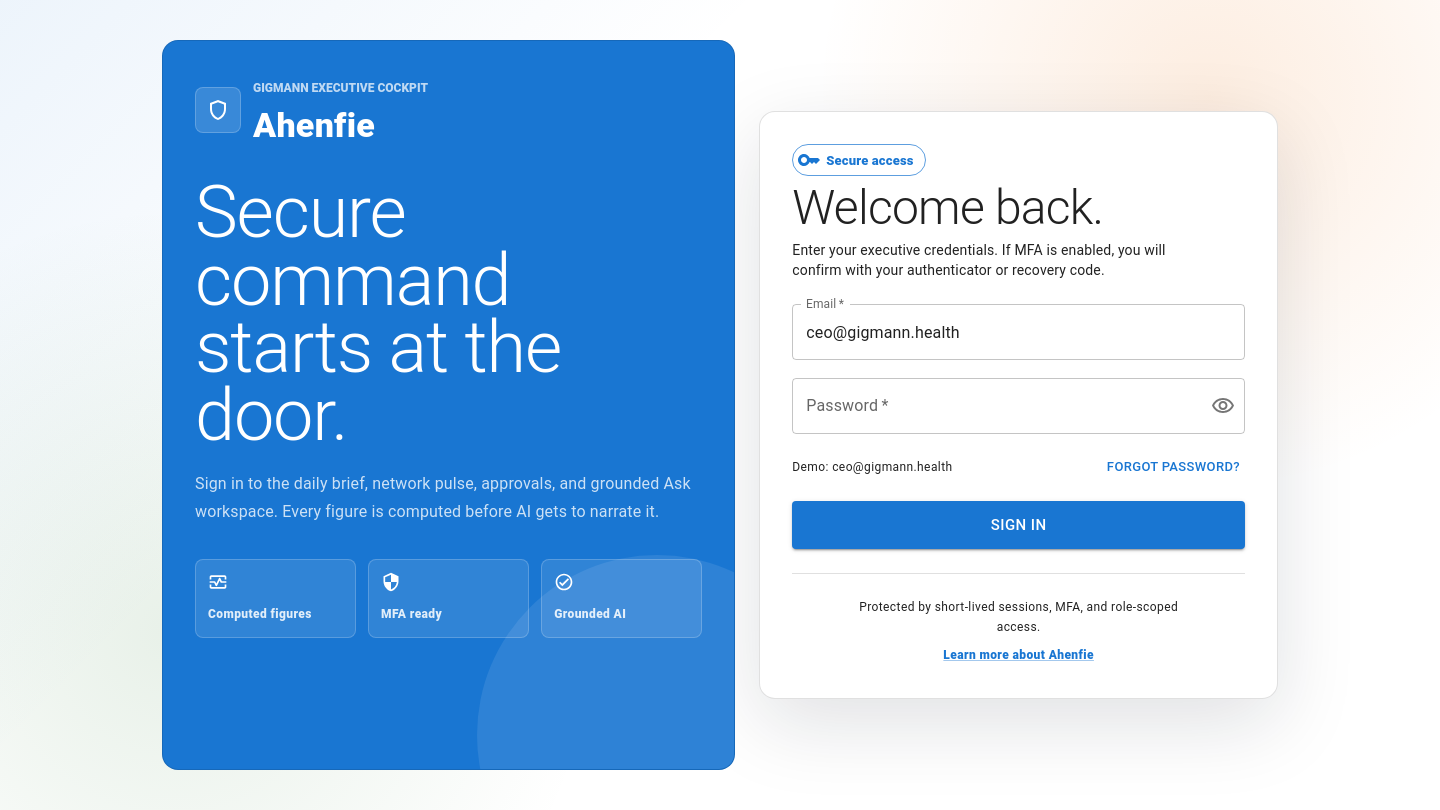
Scenario: LoginScreen › toggles password visibility
Step 1. Click the button named "show sign-in password" → (1223, 406), box [1203,386,1243,426]
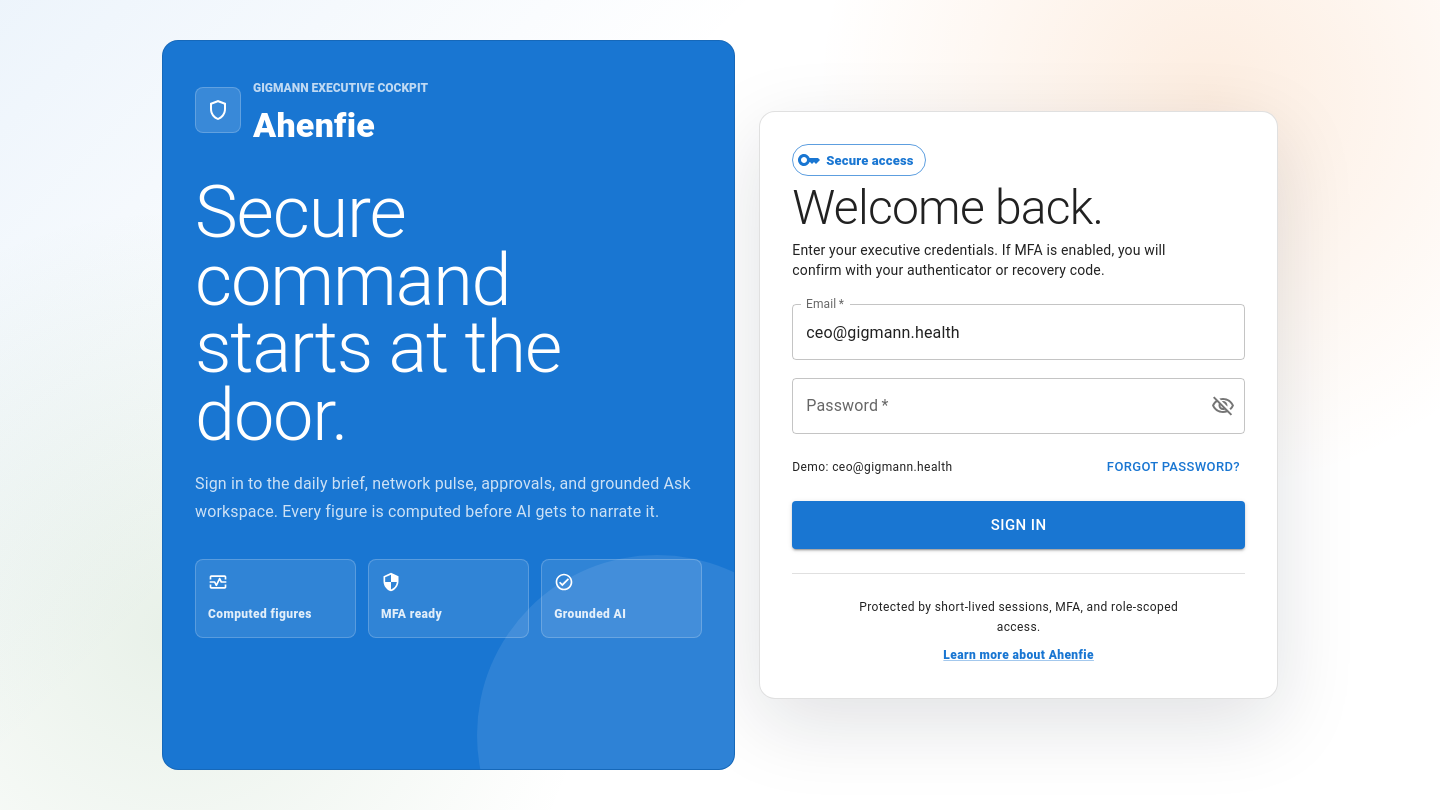
Expected: the button named "hide sign-in password" is shown, [1203,386,1243,426]
